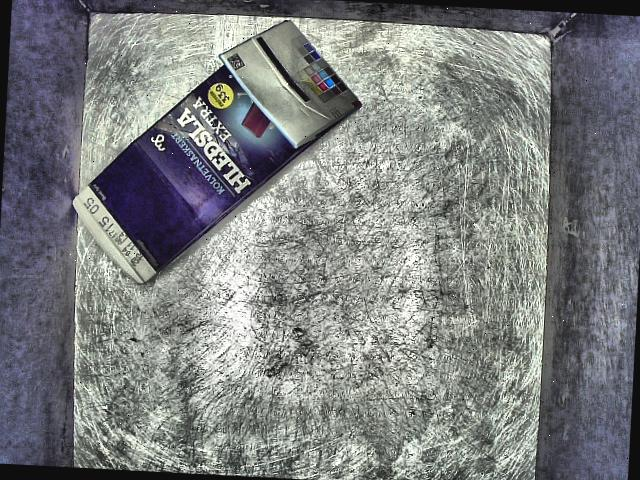Paper: (63, 0, 373, 313)
